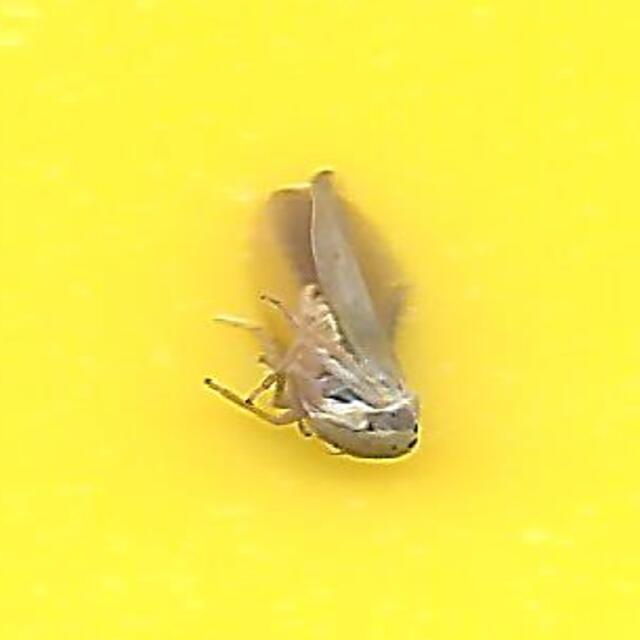Hemiptera: (210, 176, 430, 464)
